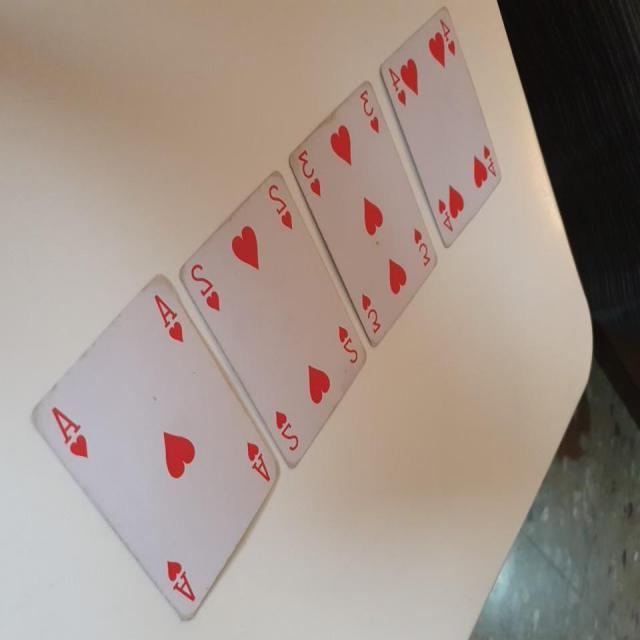2 of hearts: (176, 161, 371, 474)
3 of hearts: (276, 77, 442, 362)
4 of hearts: (367, 2, 510, 252)
ace of hearts: (35, 272, 278, 636)
